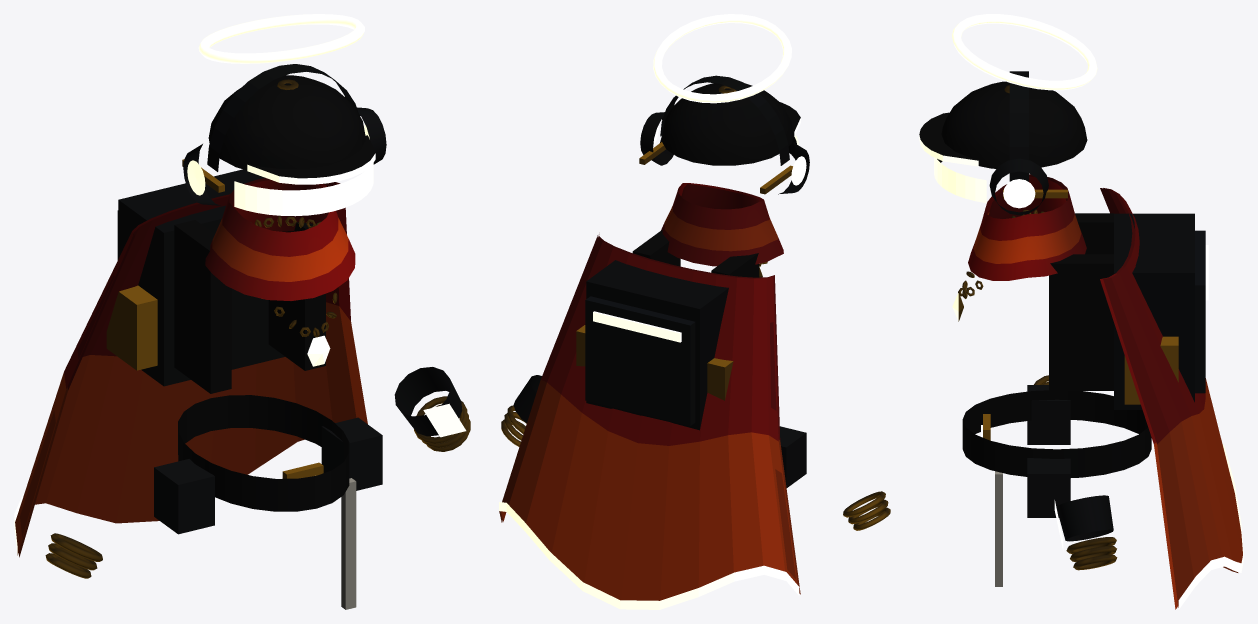
The model's file is shaddai_accessories_v01.glb.
3 renders of one model, left to right at view 1: azimuth 30°, elevation 25°; view 2: azimuth 150°, elevation 25°; view 3: azimuth 270°, elevation 25°, orthographic. The views are drawn at different scales.
Parts seen in each view (by area): view 1: acc_back_cape_ember, acc_back_backpack, acc_waist_utility_belt, acc_head_snapback, acc_neck_cowl, acc_head_headphones, acc_head_visor, acc_head_halo, acc_wrist_holo_band, acc_wrist_bangles_R, acc_neck_chain, acc_wrist_bangles_L; view 2: acc_back_cape_ember, acc_back_backpack, acc_head_snapback, acc_neck_cowl, acc_head_halo, acc_head_headphones, acc_waist_utility_belt, acc_wrist_bangles_R, acc_head_visor, acc_wrist_holo_band, acc_wrist_bangles_L; view 3: acc_back_backpack, acc_back_cape_ember, acc_waist_utility_belt, acc_head_snapback, acc_neck_cowl, acc_head_headphones, acc_head_halo, acc_wrist_holo_band, acc_head_visor, acc_wrist_bangles_L, acc_neck_chain.
Boxes of the visible parts, x1,y1,x2,y2 form: acc_back_cape_ember: (14,182,367,557); acc_back_backpack: (106,169,325,393); acc_waist_utility_belt: (154,395,382,609); acc_head_snapback: (208,75,375,184); acc_neck_cowl: (205,178,355,300); acc_head_headphones: (183,64,386,205); acc_head_visor: (182,159,373,216); acc_head_halo: (198,14,364,63); acc_wrist_holo_band: (394,367,466,437); acc_wrist_bangles_R: (45,533,102,578); acc_neck_chain: (251,216,337,366); acc_wrist_bangles_L: (414,396,470,451); acc_back_cape_ember: (499,234,800,609); acc_back_backpack: (576,229,759,430); acc_head_snapback: (661,83,800,165); acc_neck_cowl: (661,183,783,266); acc_head_halo: (653,14,791,103); acc_head_headphones: (640,75,809,194); acc_waist_utility_belt: (779,426,806,487); acc_wrist_bangles_R: (843,491,890,530); acc_head_visor: (639,135,798,194); acc_wrist_holo_band: (513,375,541,422); acc_wrist_bangles_L: (501,405,526,446); acc_back_backpack: (1049,213,1208,409); acc_back_cape_ember: (1100,188,1243,609); acc_waist_utility_belt: (962,385,1151,586); acc_head_snapback: (919,81,1087,168); acc_neck_cowl: (968,174,1086,280); acc_head_headphones: (989,71,1048,215); acc_head_halo: (952,14,1097,90); acc_wrist_holo_band: (1054,495,1113,550); acc_head_visor: (934,157,1067,203); acc_wrist_bangles_L: (1066,537,1117,570); acc_neck_chain: (952,209,1044,321).
Bounding box in the file's own units: 0.8377 × 1.08 × 0.5999.
